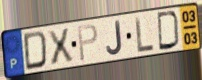D: (22, 30, 49, 73), (156, 10, 182, 52)
J: (105, 19, 124, 57)
L: (133, 15, 156, 55)
P: (76, 22, 99, 63)
X: (46, 27, 75, 67)
